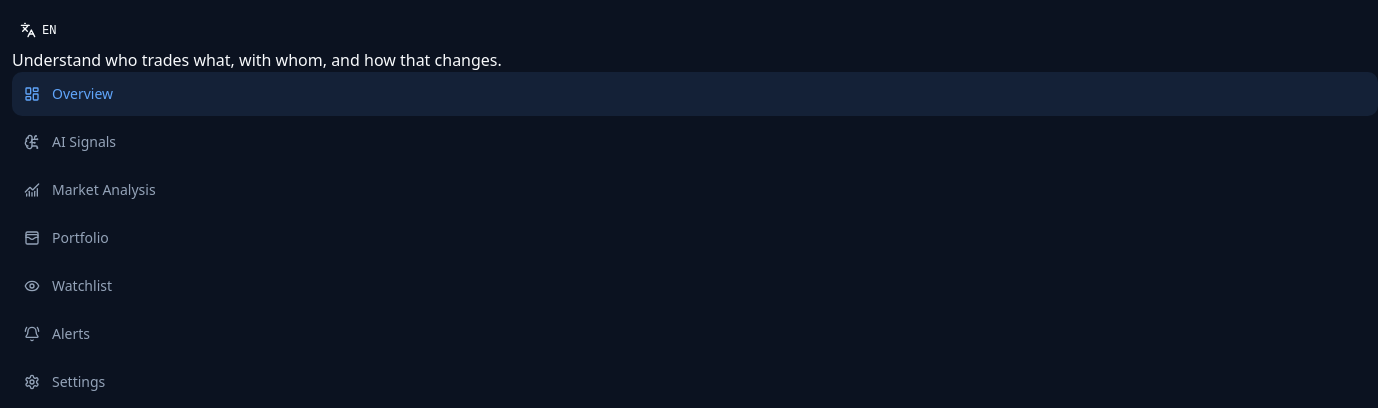
Scenario: LanguageSwitcher › switches to Russian and persists the locale
The width and height of the screenshot is (1378, 408).
Click the button with aria-label "language: english" at (38, 30), box [12, 12, 64, 48]
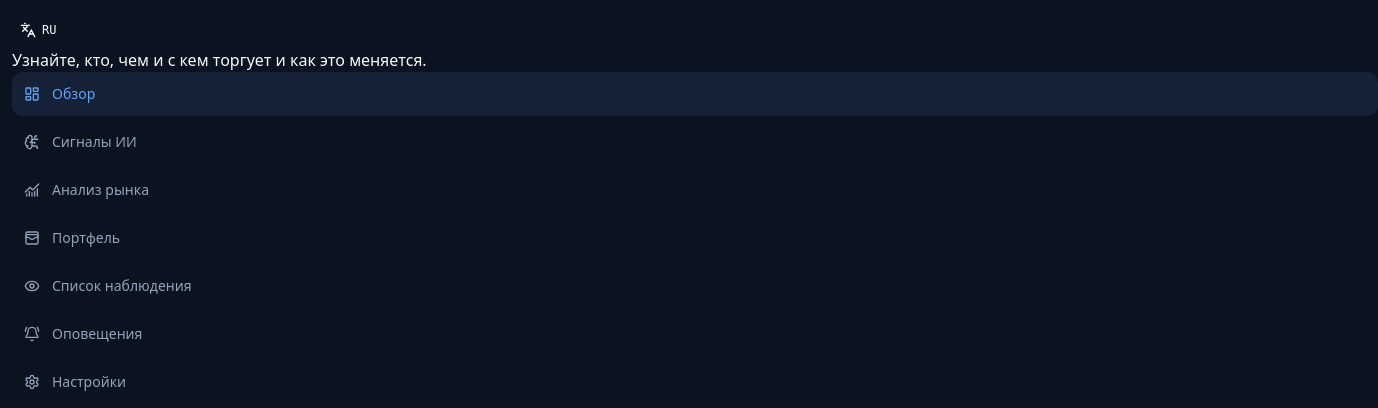
Check: the button with aria-label "язык: русский" is shown, box [12, 12, 64, 48]
Check: the heading "Узнайте, кто, чем и с кем торгует и как это меняется." is shown, box [12, 49, 427, 71]
Check: the link "Сигналы ИИ" is shown, box [24, 132, 137, 151]
